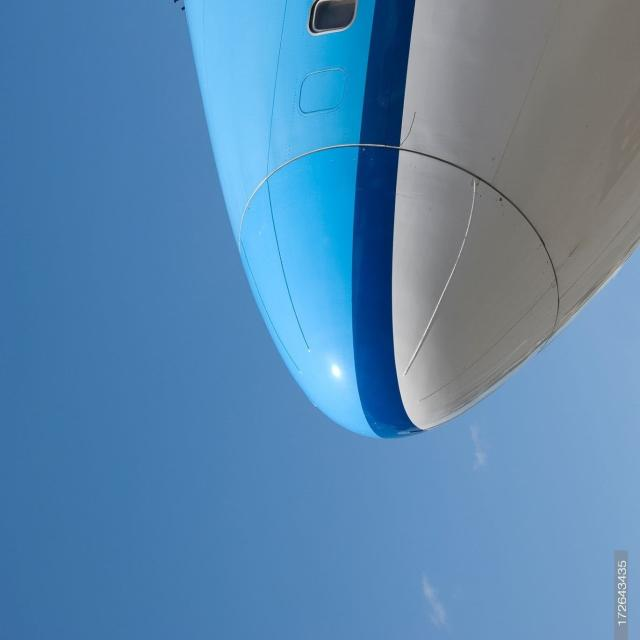Rupture: (404, 110, 423, 146)
